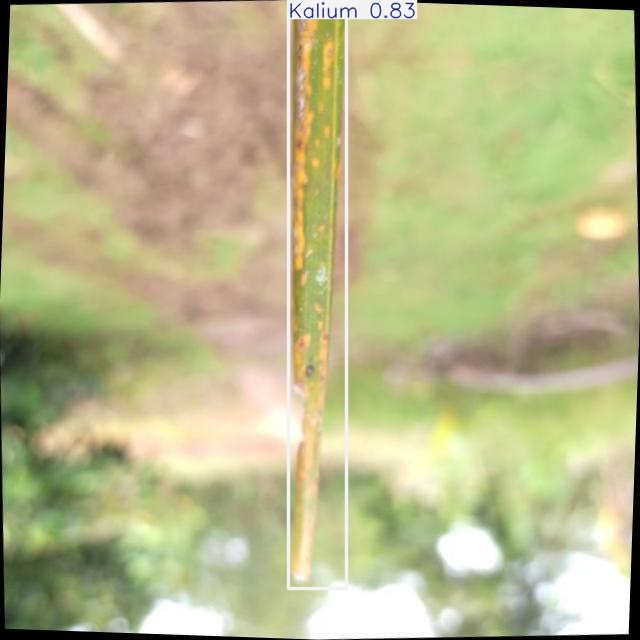Kalium: (288, 0, 347, 588)
